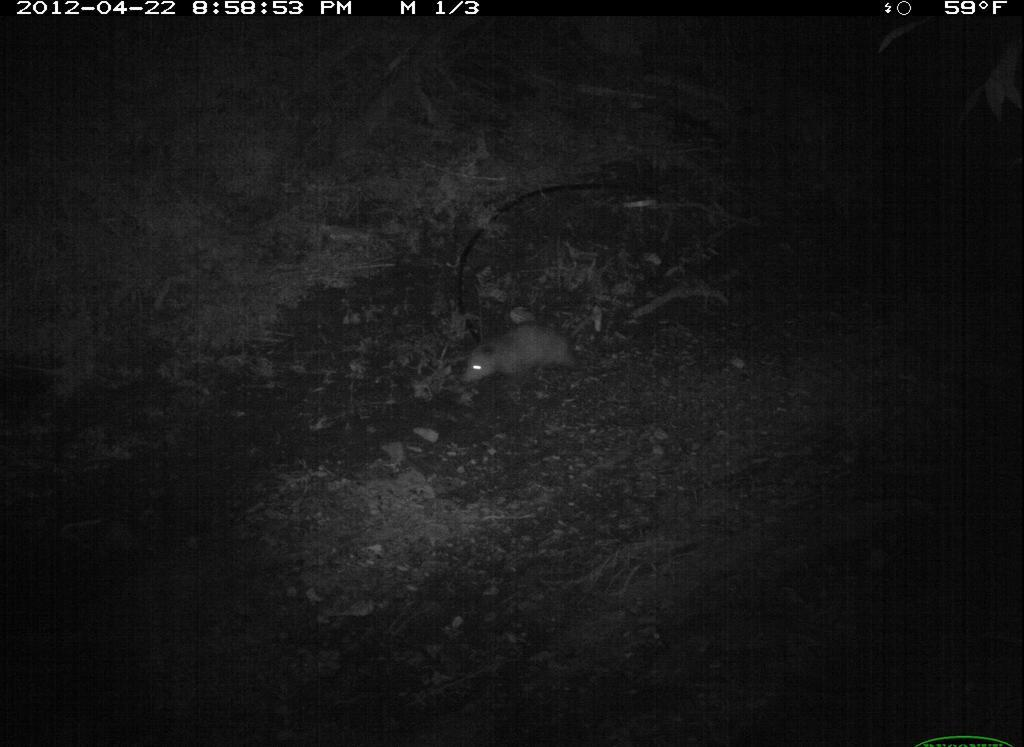opossum: (461, 314, 583, 401)
